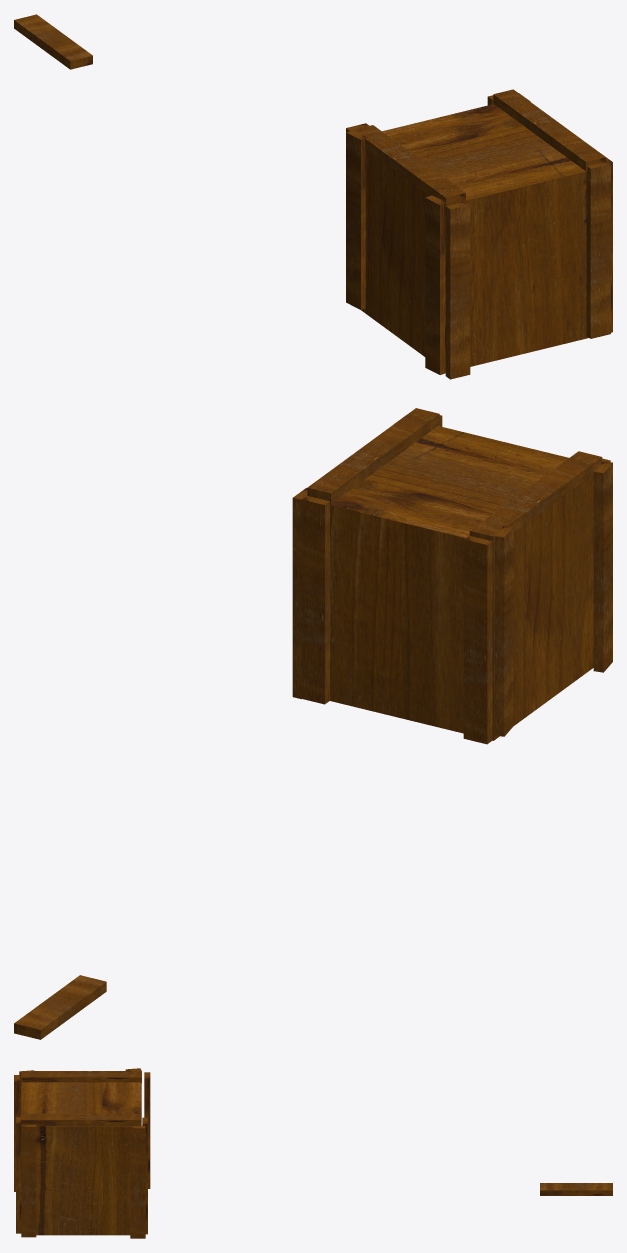
Rendered from assiment1.glb.
The picture shows the model from 3 angles, top to bottom: view 1: azimuth 30°, elevation 25°; view 2: azimuth 150°, elevation 25°; view 3: azimuth 270°, elevation 25°; orthographic projection. The views are drawn at different scales.
Parts seen in each view (by area): view 1: crate, Cube.006, Cube.007, Cube.004, Cube.005, Cube.003, Cube.002, pickup; view 2: crate, Cube.011, Cube.010, Cube.004, Cube.005, Cube.003, Cube.002, pickup, Cube.009; view 3: crate, Cube.008, Cube.009, Cube.003, Cube.002, pickup, Cube.007, Cube.011, Cube.006, Cube.010.
Part boxes in pixels (bbox=[...]): crate: bbox=[361, 104, 588, 366]; Cube.006: bbox=[445, 201, 470, 379]; Cube.007: bbox=[586, 161, 610, 338]; Cube.004: bbox=[425, 195, 446, 374]; Cube.005: bbox=[346, 130, 367, 309]; Cube.003: bbox=[493, 89, 606, 171]; Cube.002: bbox=[353, 125, 465, 205]; pickup: bbox=[14, 14, 92, 69]; crate: bbox=[330, 426, 593, 740]; Cube.011: bbox=[463, 535, 492, 744]; Cube.010: bbox=[301, 495, 329, 704]; Cube.004: bbox=[593, 461, 612, 672]; Cube.005: bbox=[494, 525, 513, 736]; Cube.003: bbox=[307, 408, 439, 504]; Cube.002: bbox=[469, 451, 602, 547]; pickup: bbox=[14, 975, 106, 1039]; Cube.009: bbox=[292, 488, 307, 699]; crate: bbox=[21, 1076, 141, 1235]; Cube.008: bbox=[21, 1124, 36, 1237]; Cube.009: bbox=[130, 1126, 145, 1238]; Cube.003: bbox=[20, 1113, 140, 1126]; Cube.002: bbox=[21, 1071, 141, 1083]; pickup: bbox=[540, 1183, 612, 1195]; Cube.007: bbox=[16, 1117, 21, 1233]; Cube.011: bbox=[144, 1072, 150, 1188]; Cube.006: bbox=[14, 1075, 19, 1191]; Cube.010: bbox=[142, 1117, 147, 1234].
Size of the model in its own units: 2.25 by 2.14 by 10.
1 material, 1 textured.
